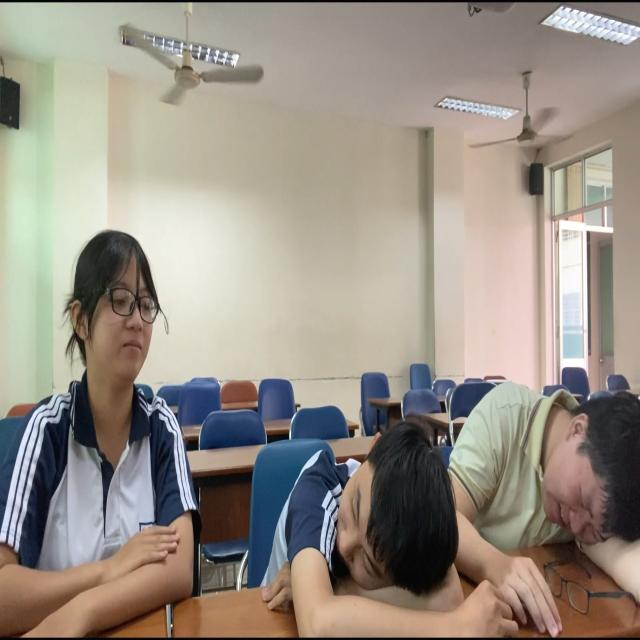sleep: (250, 405, 476, 639)
